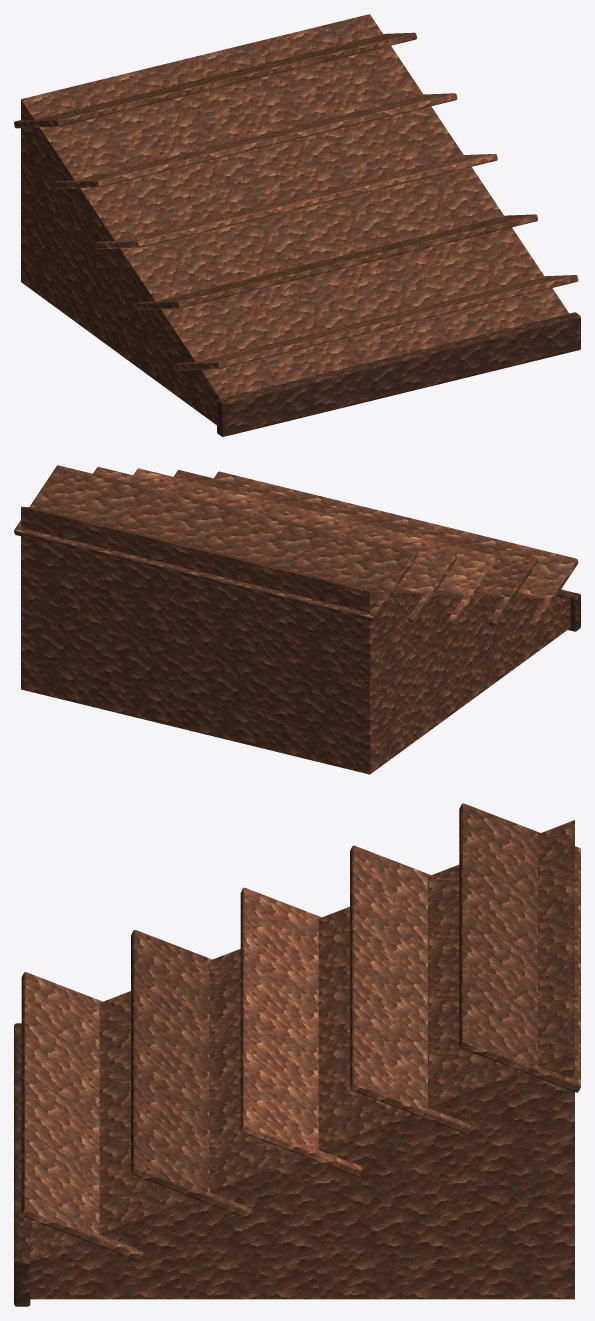
Rendered from roof_26__copper_ingot.glb.
3 renders of one model, top to bottom at view 1: azimuth 30°, elevation 25°; view 2: azimuth 150°, elevation 25°; view 3: azimuth 270°, elevation 25°, orthographic. The views are drawn at different scales.
Parts seen in each view (by area): view 1: model; view 2: model; view 3: model.
Boxes of the visible parts, x1,y1,x2,y2 form: model: [14, 14, 580, 436]; model: [14, 465, 580, 774]; model: [14, 803, 580, 1306].
Size of the model in its own units: 2.06 by 1.08 by 2.07.
4 materials, 4 textured.
